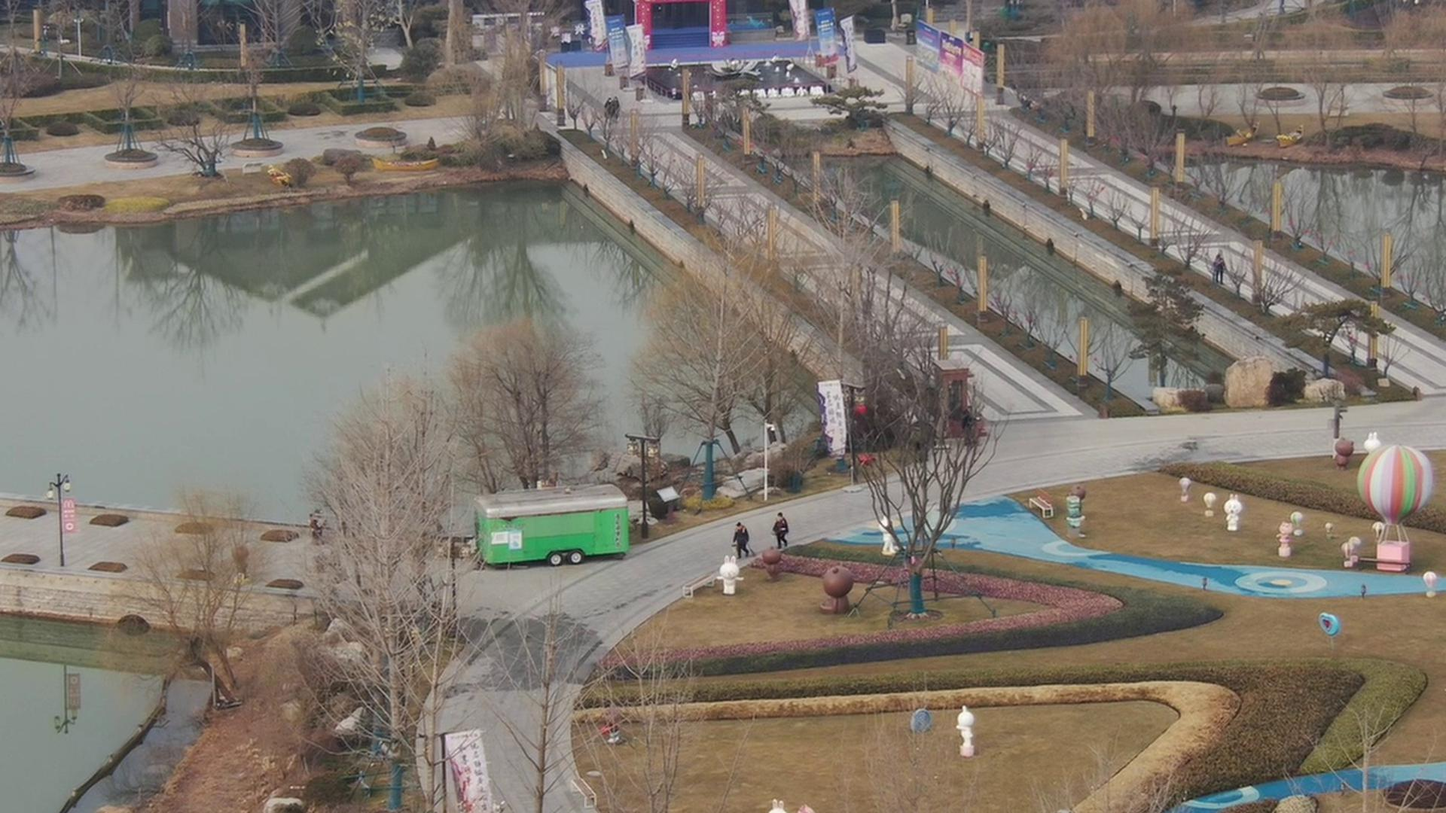class_2: (596, 87, 624, 122)
human: (766, 507, 792, 545), (726, 520, 749, 562)
